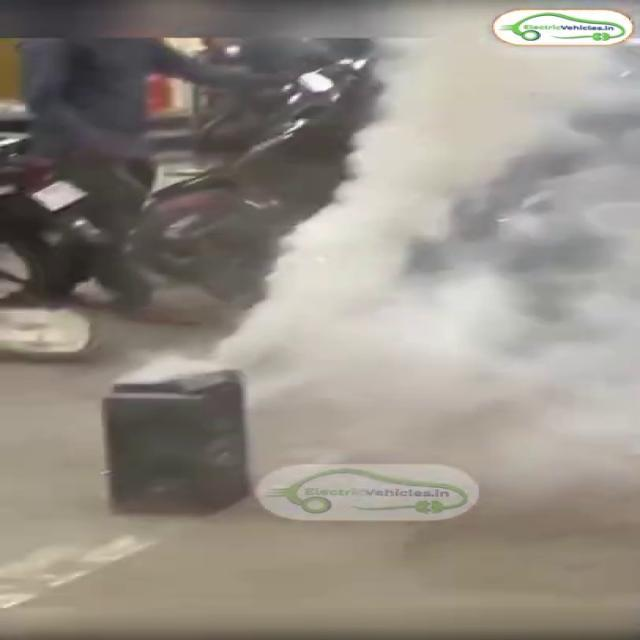Smoke: (206, 4, 640, 502)
